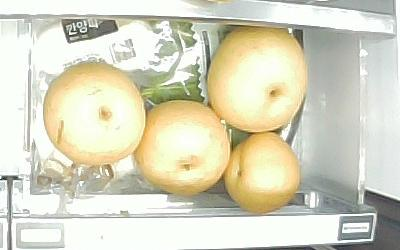pear: (207, 27, 308, 133), (43, 62, 144, 164), (134, 99, 229, 196), (225, 132, 302, 213)
